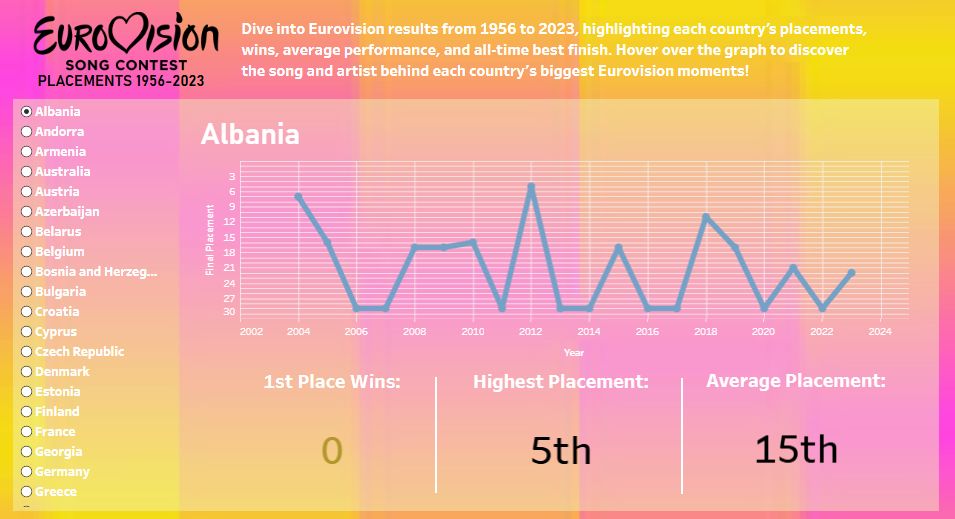

Layout of this report page (visuals, bound fields, positions):
{"tool":"tableau","page":{"name":"Dashboard 1","canvas":[1200,650],"ordinal":0},"visuals":[{"type":"image","param":"Image/Eurovision-Song-Contest (1).png","box":[19,8,280,90]},{"type":"text","box":[303,11.9,787,99.7]},{"type":"text","box":[48,77,238,51]},{"type":"text","box":[18,123.5,1157,515.4]},{"type":"filter","title":"Placements","param":"[federated.07lwrwy10elmvu14oxahl0u7lt4i].[none:Country:nk]","box":[23,125.7,197,508.1]},{"type":"worksheet","title":"Placements","mark":"Line","rows":["Country","Calculation_1360931521663160328"],"cols":["Year"],"box":[248,142,889,313]},{"type":"worksheet","title":"Average Placement","mark":"Automatic","rows":["Country"],"box":[862,451.3,269,164.4]},{"type":"worksheet","title":"Wins","mark":"Automatic","box":[263,453.1,307,165.3]},{"type":"worksheet","title":"High Placement","mark":"Automatic","rows":["Country"],"box":[559,453.1,287,165.3]},{"type":"text","box":[545,470.8,3,144.9]},{"type":"text","box":[853,472.6,2,144.9]}]}

Visuals, with their boxes in screenshot pixels (x1, y1, x2, y2), scaled from the page's 1200x650 canvas onto the 955x519 screenshot:
image: x1=15, y1=6, x2=238, y2=78
text: x1=241, y1=10, x2=867, y2=89
text: x1=38, y1=61, x2=228, y2=102
text: x1=14, y1=99, x2=935, y2=510
"Placements" filter: x1=18, y1=100, x2=175, y2=506
"Placements" worksheet (Line marks): x1=197, y1=113, x2=905, y2=363
"Average Placement" worksheet: x1=686, y1=360, x2=900, y2=492
"Wins" worksheet: x1=209, y1=362, x2=454, y2=494
"High Placement" worksheet: x1=445, y1=362, x2=673, y2=494
text: x1=434, y1=376, x2=436, y2=492
text: x1=679, y1=377, x2=680, y2=493
